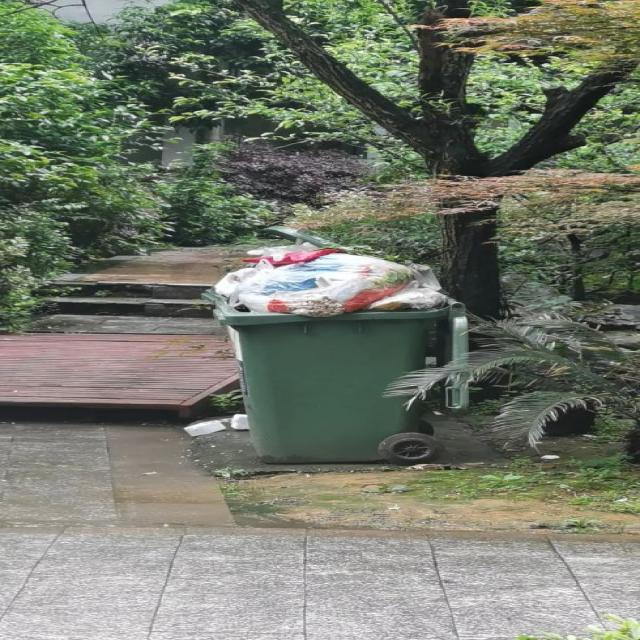overflow: (200, 241, 465, 464)
